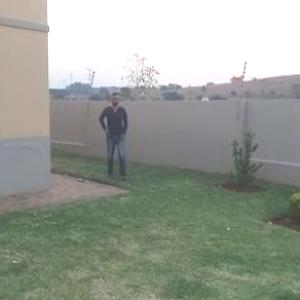follow: (98, 89, 130, 183)
